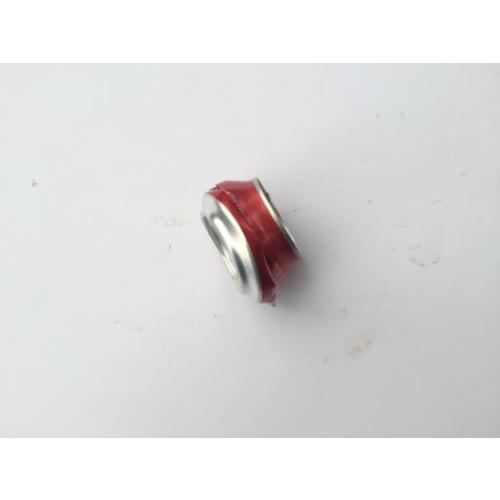metal: (206, 179, 299, 308)
